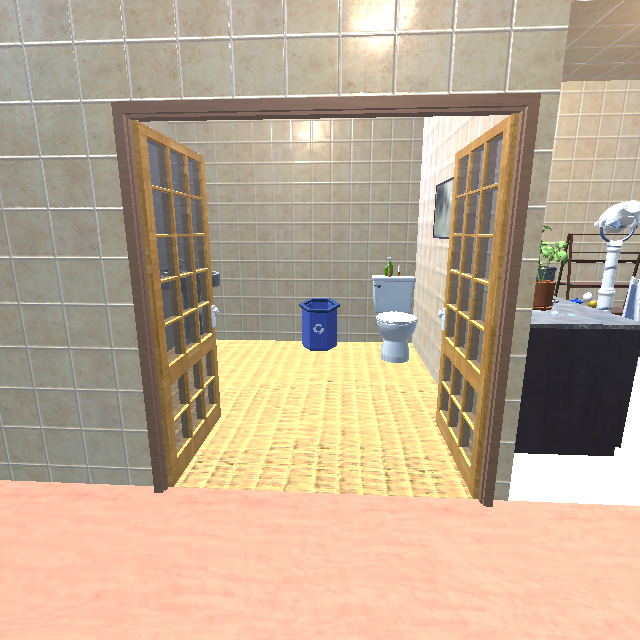open_doorway: (111, 93, 540, 506)
